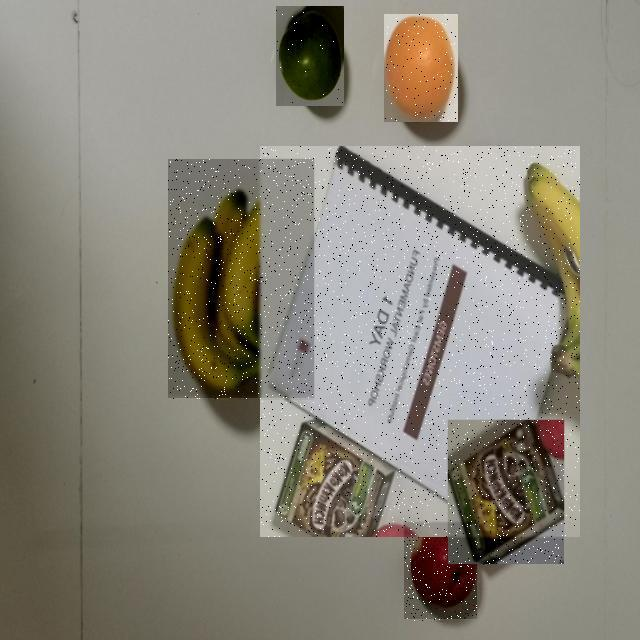Apple: (404, 522, 477, 622), (276, 7, 344, 107)
Banana: (168, 160, 314, 400)
Book: (260, 146, 580, 537)
Cereal: (448, 421, 564, 565)
Orange: (384, 14, 458, 122)
